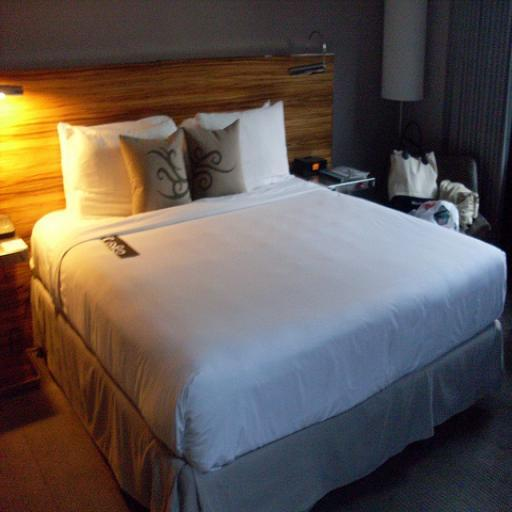bed: (25, 86, 506, 494)
